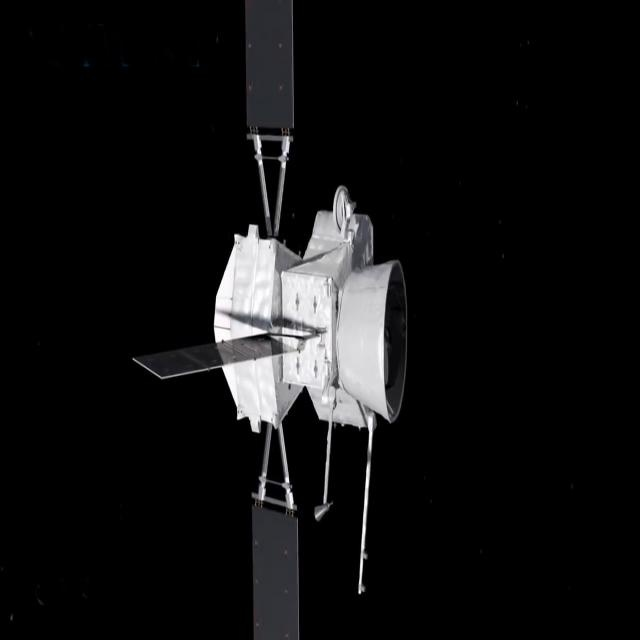medium_debris: (118, 0, 425, 640)
